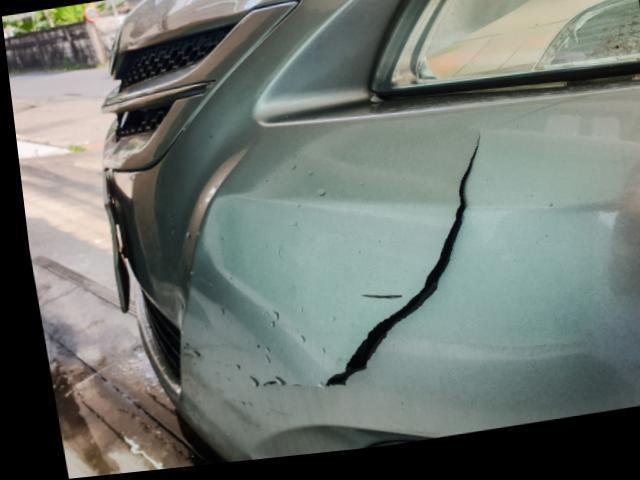crack: (313, 139, 478, 394)
